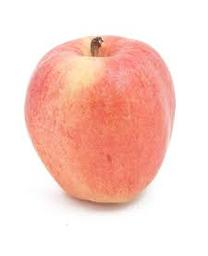apple: (20, 33, 176, 204)
